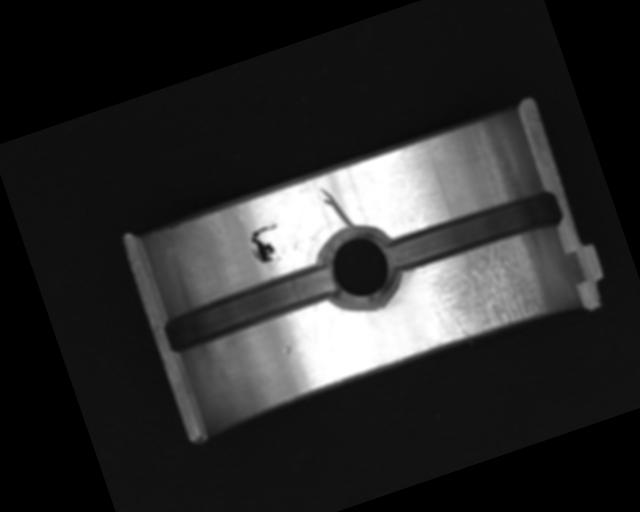blot: (244, 221, 289, 267)
bruise: (279, 342, 295, 356)
gap: (159, 256, 344, 359), (386, 184, 565, 278)
hole: (308, 218, 410, 320)
nick: (316, 180, 355, 235), (408, 208, 430, 232)
scratch: (413, 230, 557, 348)
